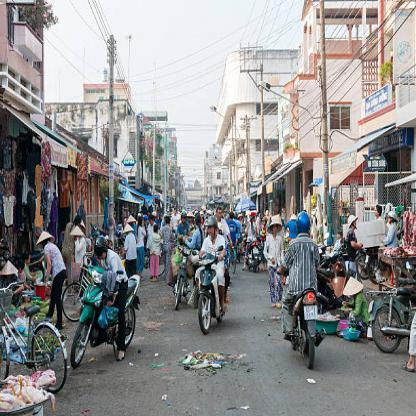Motorcycle: (67, 253, 137, 369), (281, 279, 325, 378), (189, 247, 227, 355)
